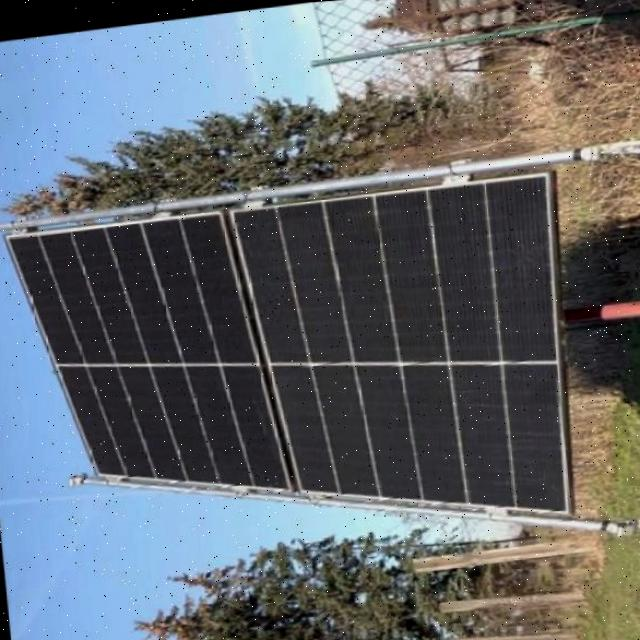Normal Solar Panel: (2, 165, 578, 572)
